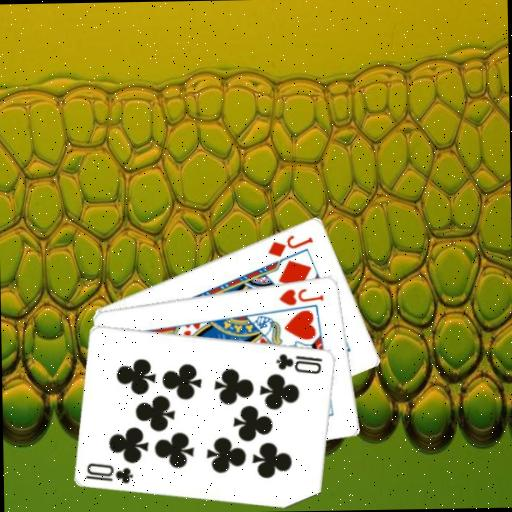10C: (83, 459, 135, 486), (273, 350, 324, 376)
JD: (265, 231, 316, 259)
JH: (276, 285, 325, 307)
